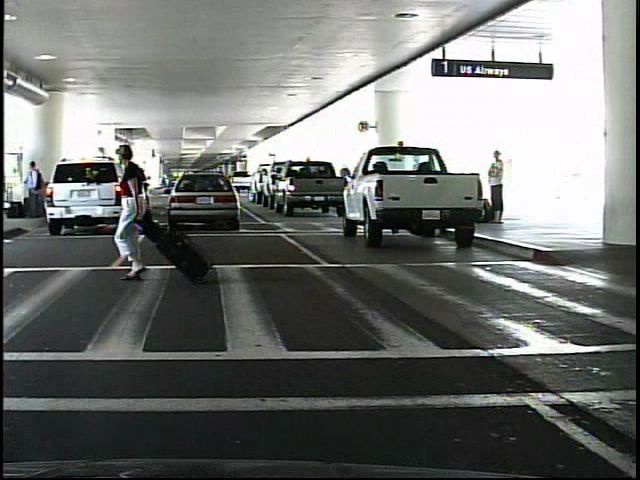person: (111, 146, 174, 286), (479, 152, 516, 225), (25, 158, 44, 220)
